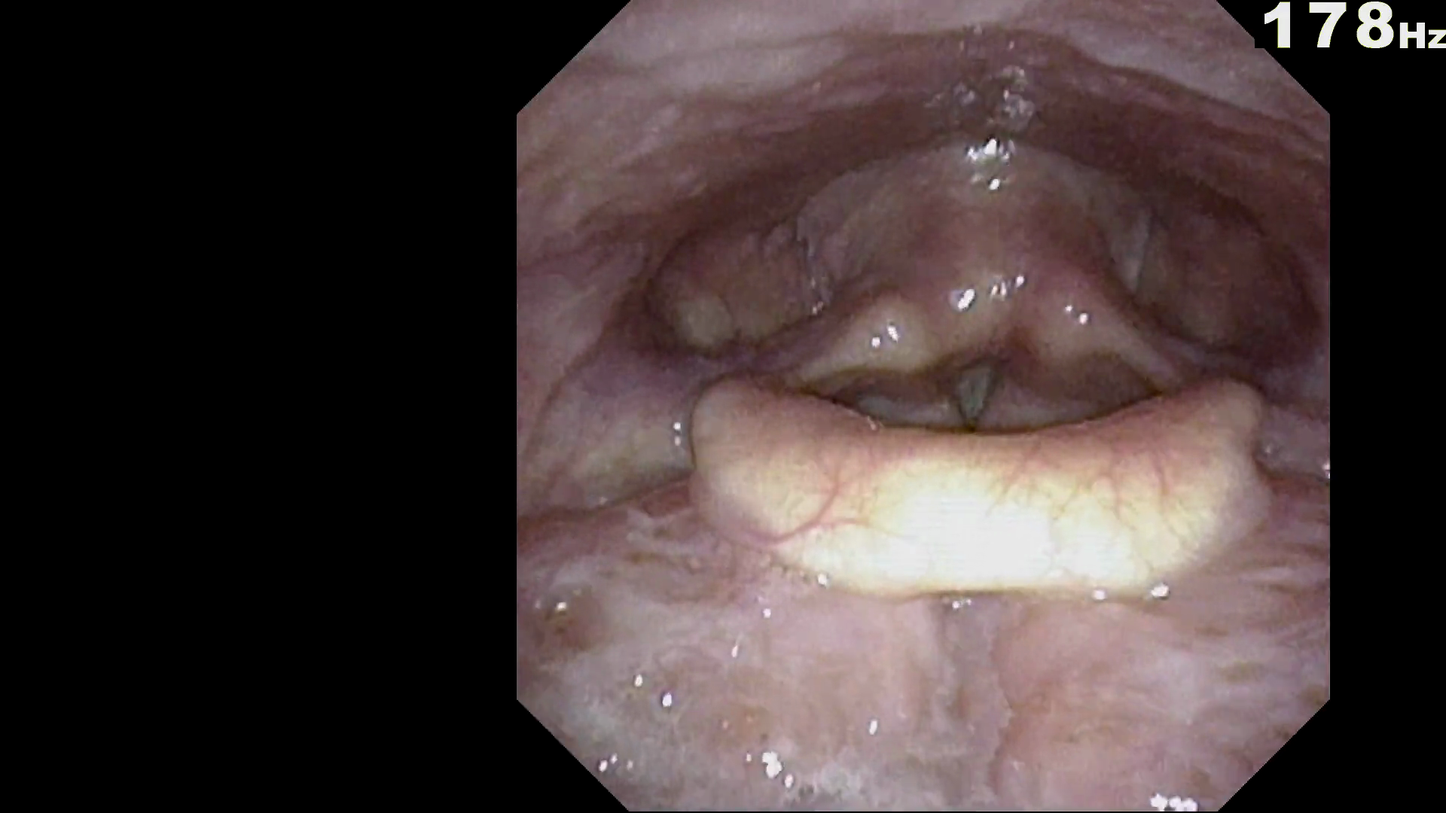epiglottis: (689, 350, 1288, 629)
trachea: (915, 317, 1030, 457)
